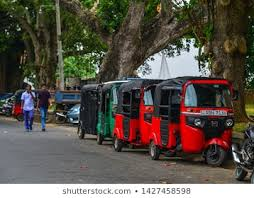tuk tuk: (148, 75, 234, 167), (113, 77, 147, 153), (96, 83, 113, 145), (12, 89, 24, 121)
